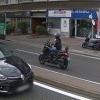Motorcycle: (34, 38, 74, 72)
